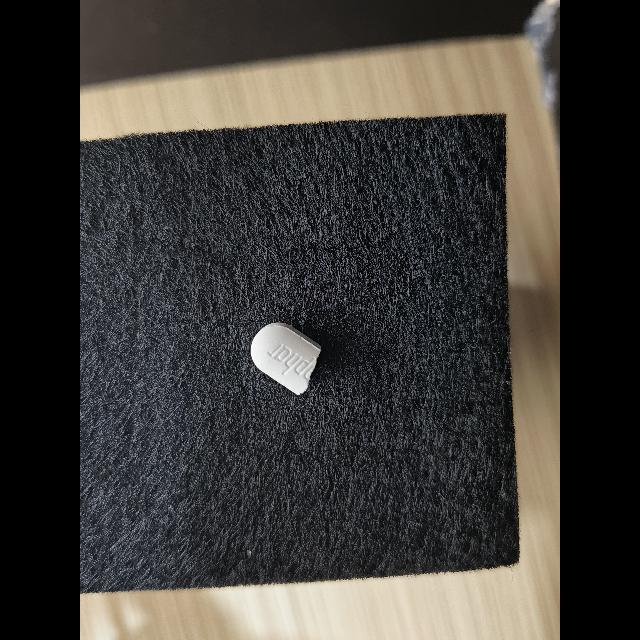Chipped Pill: (251, 322, 322, 395)
